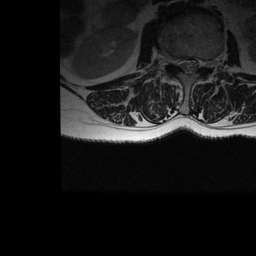CCS_stenosis: (185, 53, 193, 80)
LFS_normal: (201, 53, 207, 71)
LLS_normal: (193, 52, 201, 77)
RFS_normal: (171, 52, 178, 70)
RLS_normal: (178, 52, 184, 76)
